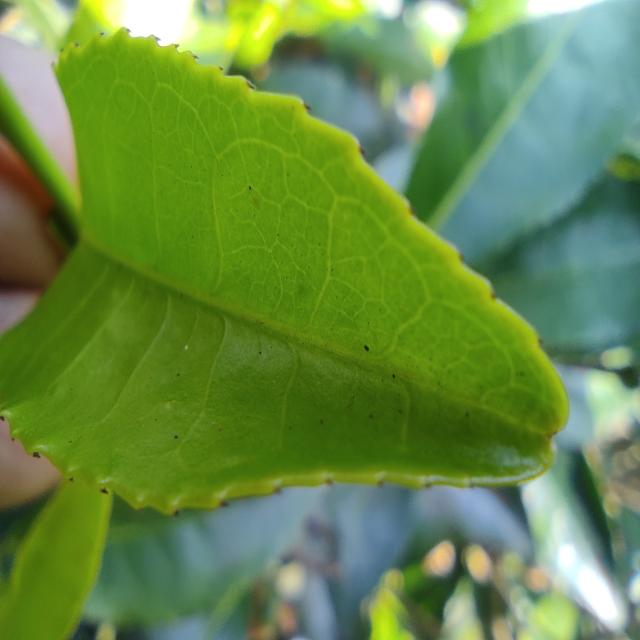Category C(4-7 days): (0, 24, 574, 538)
